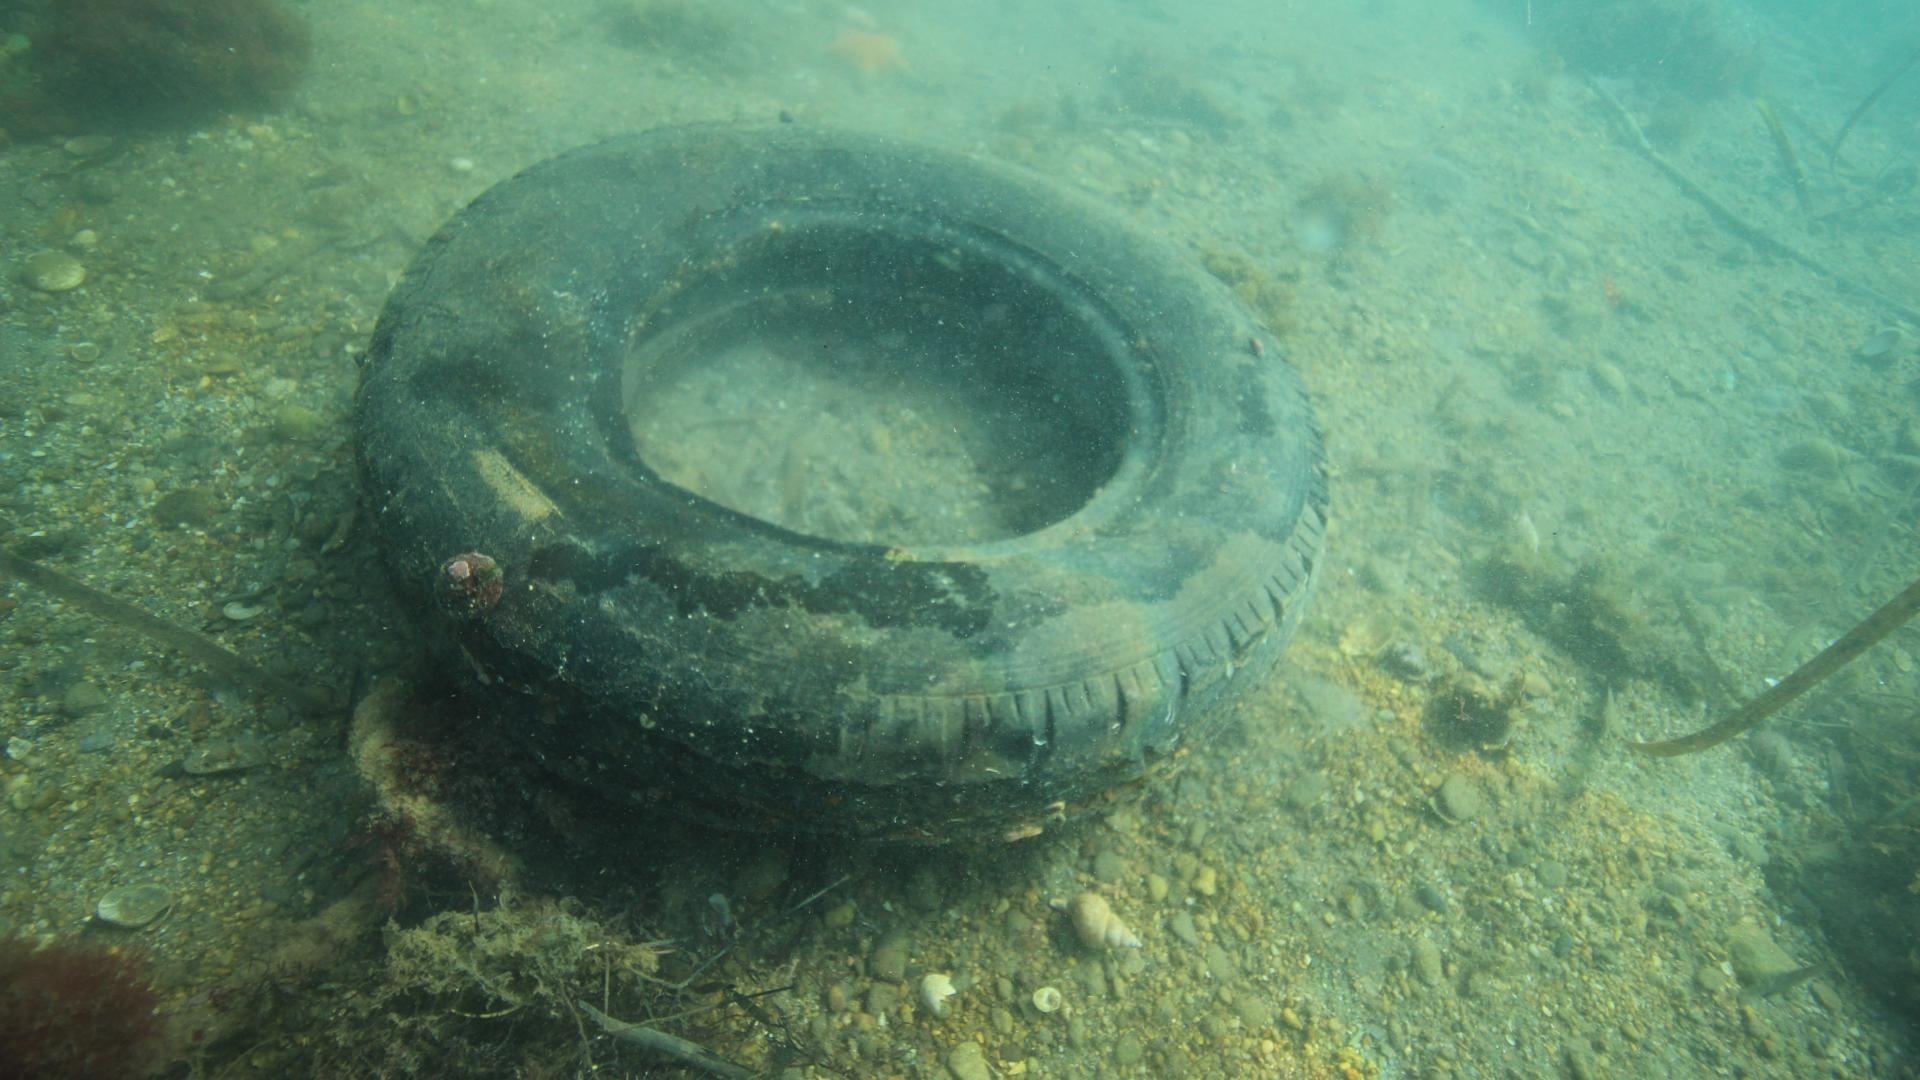tire: (342, 113, 1338, 845)
